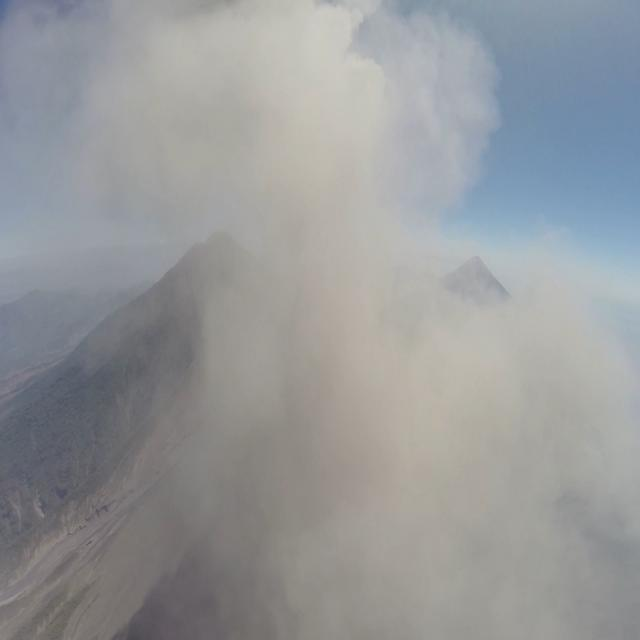Plume: (73, 0, 596, 640)
